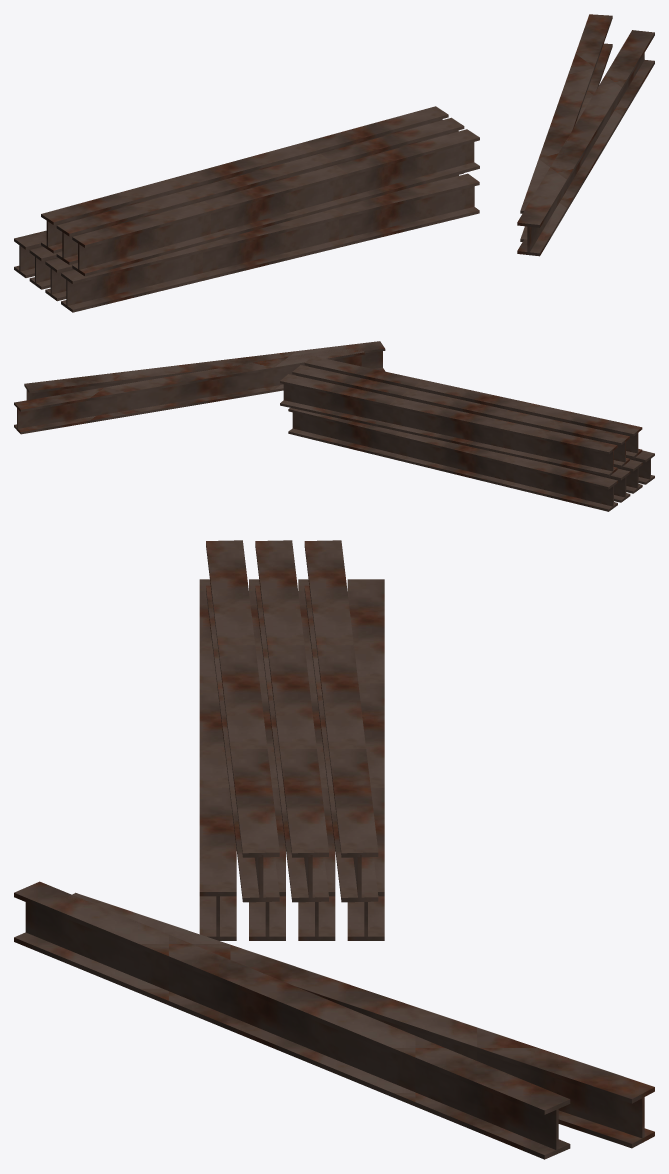
The model's file is HM21_SteelBeamsPile.glb.
3 views of the same model, one above another, from view 1: azimuth 30°, elevation 25°; view 2: azimuth 150°, elevation 25°; view 3: azimuth 270°, elevation 25° (orthographic). The views are drawn at different scales.
Parts seen in each view (by area): view 1: HM21_SteelBeamsPile; view 2: HM21_SteelBeamsPile; view 3: HM21_SteelBeamsPile.
Boxes of the visible parts, x1,y1,x2,y2 form: HM21_SteelBeamsPile: (14, 14, 654, 312); HM21_SteelBeamsPile: (14, 341, 654, 511); HM21_SteelBeamsPile: (14, 540, 654, 1159).
Bounding box in the file's own units: 3 × 0.2589 × 1.53.
1 material, 1 textured.
